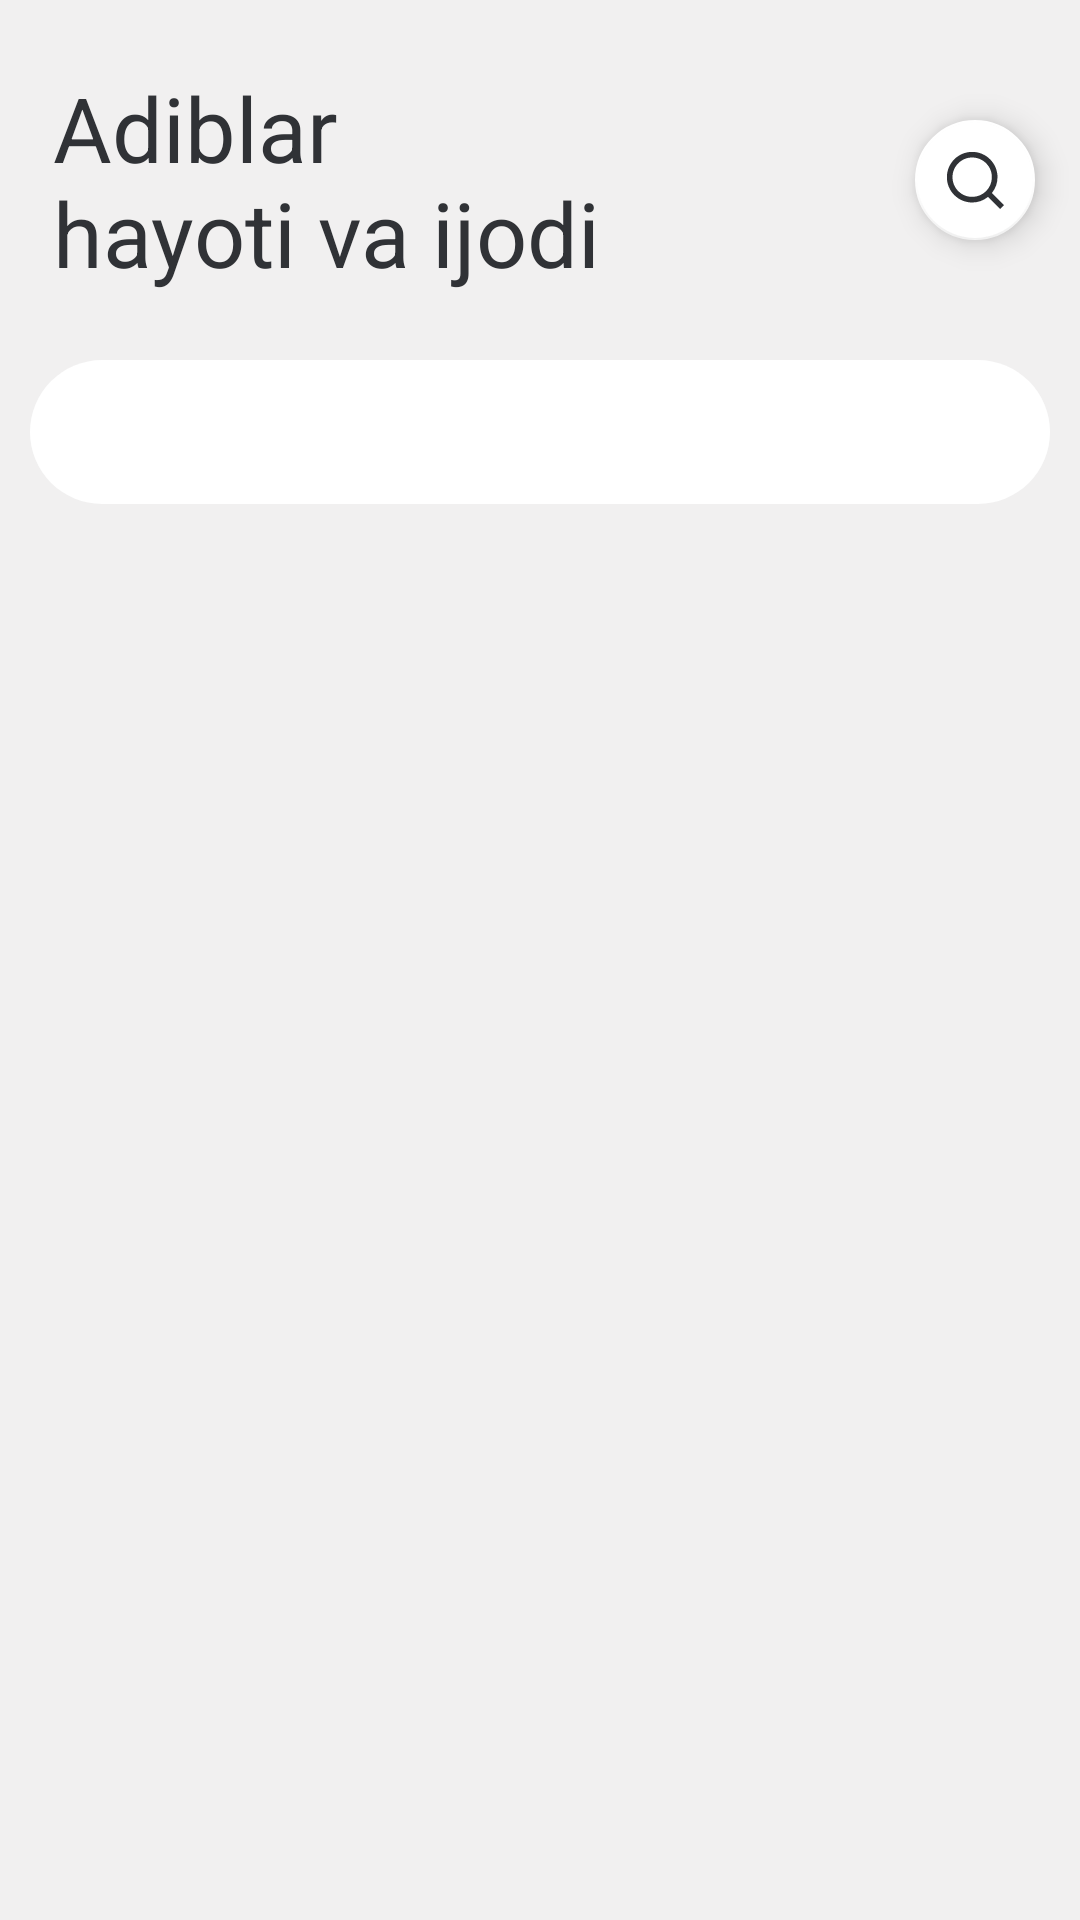

Screen size 1080×1920. Icon name, then its box in pixels as region(x1, y1, x2, y2):
search figma: region(912, 116, 1045, 247)
